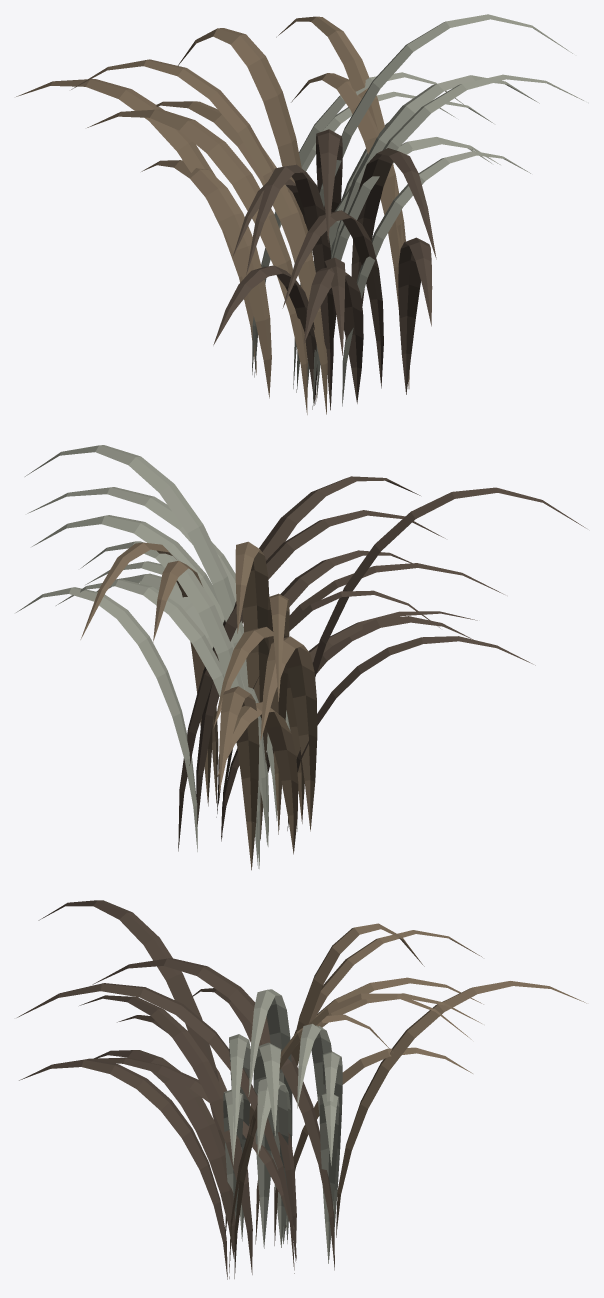
The model's file is ASH_GRASS_CLUMP.hi.glb.
3 renders of one model, top to bottom at view 1: azimuth 30°, elevation 25°; view 2: azimuth 150°, elevation 25°; view 3: azimuth 270°, elevation 25°, orthographic. The views are drawn at different scales.
Visible parts, largest first — view 1: ASH_GRASS_CLUMP; view 2: ASH_GRASS_CLUMP; view 3: ASH_GRASS_CLUMP.
Boxes of the visible parts, bbox=[...] form: ASH_GRASS_CLUMP: bbox=[16, 14, 583, 414]; ASH_GRASS_CLUMP: bbox=[16, 445, 586, 870]; ASH_GRASS_CLUMP: bbox=[17, 900, 586, 1279].
Size of the model in its own units: 0.499 by 0.364 by 0.5967.
Materials: 1 (1 with a texture image).
